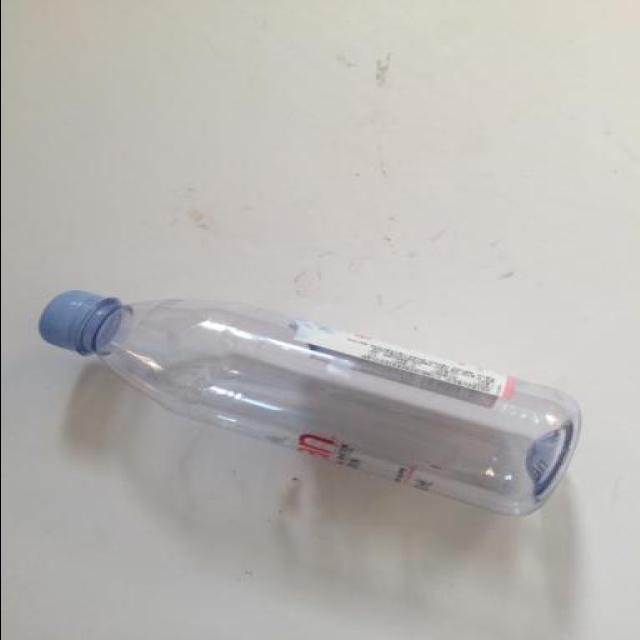PET: (33, 288, 585, 522)
